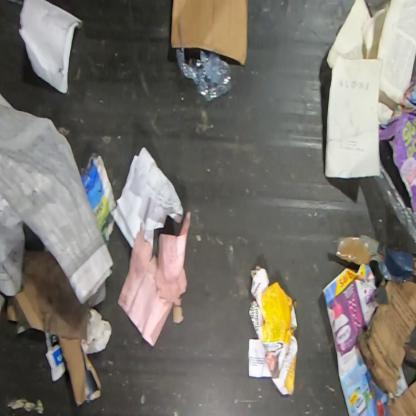cardboard: (6, 249, 102, 409), (360, 279, 415, 415), (247, 264, 298, 395), (170, 0, 249, 67), (334, 235, 415, 286)
rigid_plastic: (176, 48, 232, 102)
soft_plastic: (373, 146, 415, 288)
